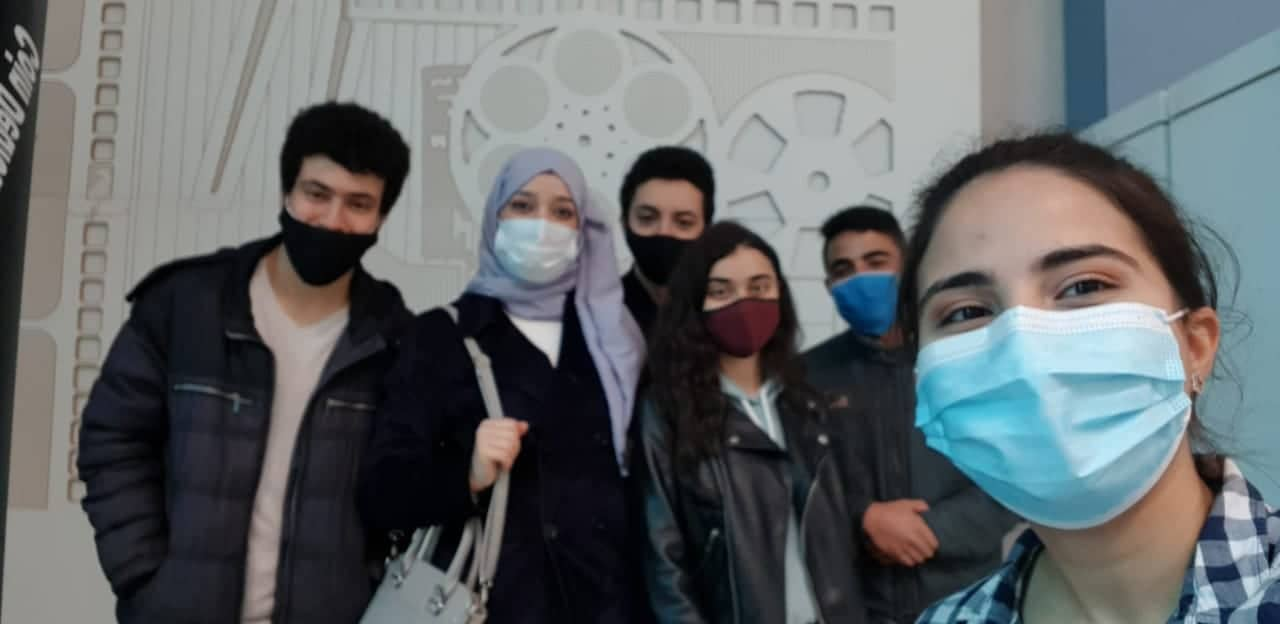mask_weared_incorrect: (278, 165, 386, 278)
